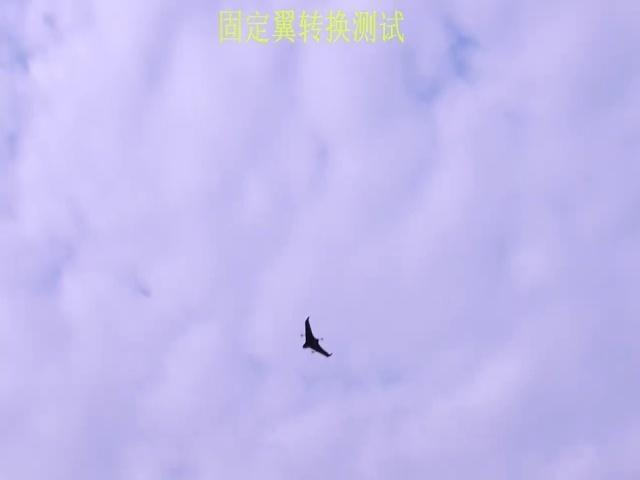Airplane: (301, 316, 332, 357)
